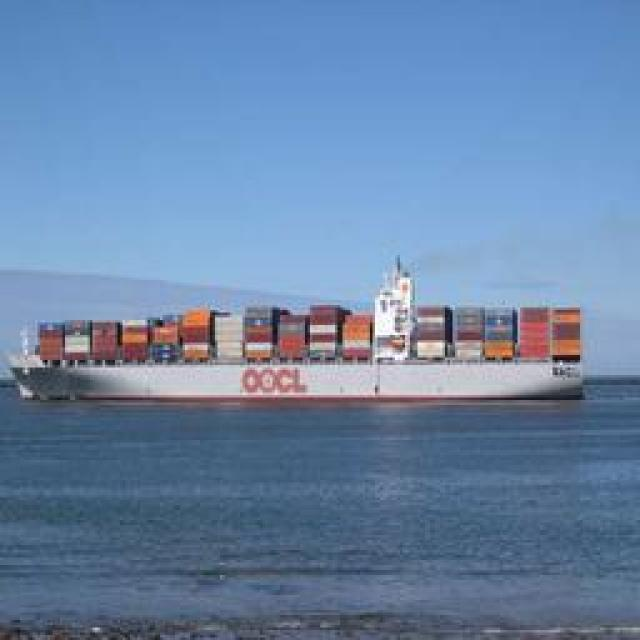ship2: (12, 251, 588, 409)
